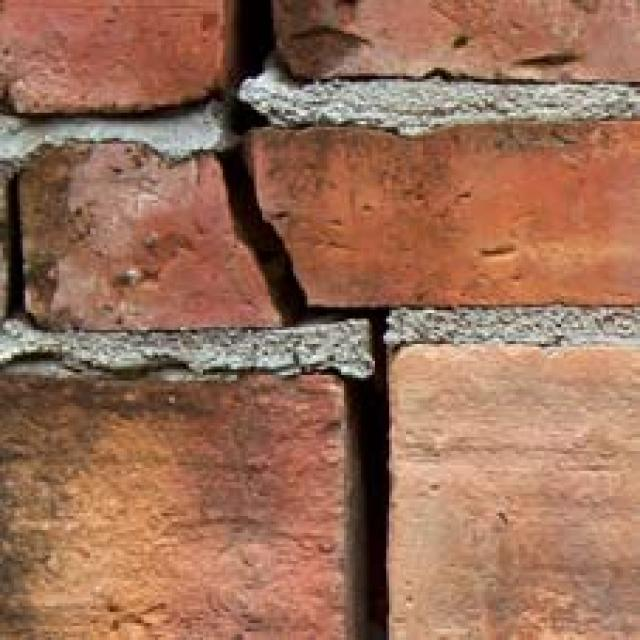Crack: (176, 0, 547, 640)
